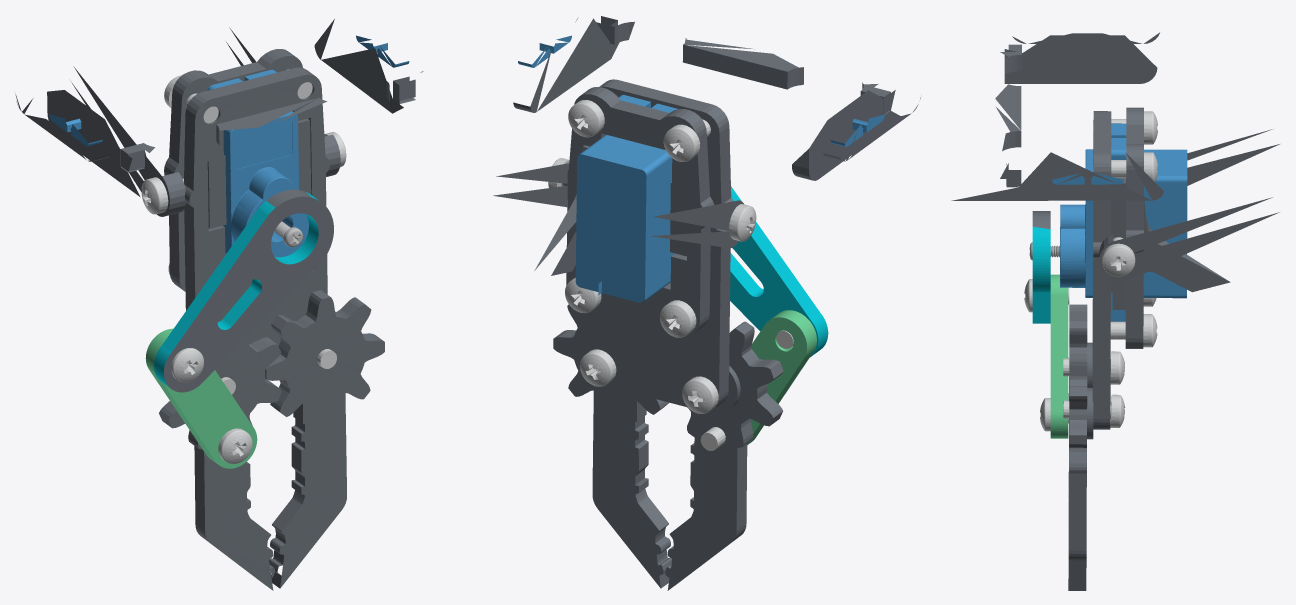
The model's file is garra_montada_inferior.glb.
The picture shows the model from 3 angles, left to right: view 1: azimuth 30°, elevation 25°; view 2: azimuth 150°, elevation 25°; view 3: azimuth 270°, elevation 25°; orthographic projection. The views are drawn at different scales.
Parts seen in each view (by area): view 1: mecanica_braco_pecas_impressas_pla, servos_sg90_4x_azul, haste_articulacao_curta, cruzetas_horns_nylon_branco, haste_articulacao_olhal; view 2: mecanica_braco_pecas_impressas_pla, servos_sg90_4x_azul, cruzetas_horns_nylon_branco, haste_articulacao_olhal, haste_articulacao_curta; view 3: mecanica_braco_pecas_impressas_pla, servos_sg90_4x_azul, cruzetas_horns_nylon_branco, haste_articulacao_curta, haste_articulacao_olhal.
Boxes of the visible parts, x1,y1,x2,y2 form: mecanica_braco_pecas_impressas_pla: (15,19,423,590); servos_sg90_4x_azul: (49,35,409,257); haste_articulacao_curta: (145,328,257,468); cruzetas_horns_nylon_branco: (141,69,346,463); haste_articulacao_olhal: (154,192,318,387); mecanica_braco_pecas_impressas_pla: (493,16,920,590); servos_sg90_4x_azul: (518,35,884,302); cruzetas_horns_nylon_branco: (548,100,793,450); haste_articulacao_olhal: (730,186,828,357); haste_articulacao_curta: (747,310,816,444); mecanica_braco_pecas_impressas_pla: (951,32,1279,590); servos_sg90_4x_azul: (1052,123,1187,321); cruzetas_horns_nylon_branco: (1024,111,1157,431); haste_articulacao_curta: (1050,274,1068,438); haste_articulacao_olhal: (1032,227,1050,323).
Bounding box in the file's own units: 62.45 × 90.11 × 55.8.
